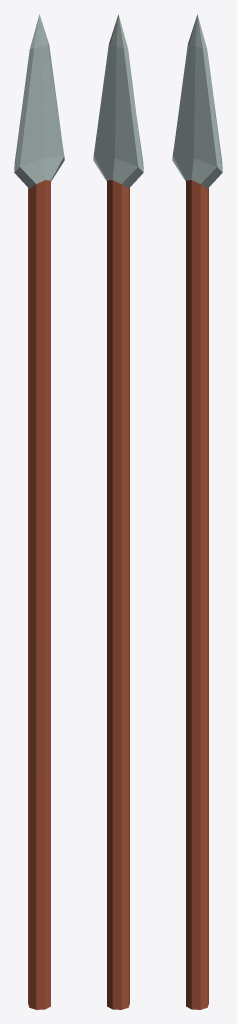
File: Spear.glb
The picture shows the model from 3 angles, left to right: view 1: azimuth 30°, elevation 25°; view 2: azimuth 150°, elevation 25°; view 3: azimuth 330°, elevation 25°; orthographic projection.
Visible parts, largest first — view 1: Spear; view 2: Spear; view 3: Spear.
Part boxes in pixels (<box>): Spear: <box>14,14,64,1009</box>; Spear: <box>93,14,143,1009</box>; Spear: <box>172,14,222,1009</box>.
Bounding box in the file's own units: 0.1103 × 2.07 × 0.0445.
Materials: 1 (1 with a texture image).
